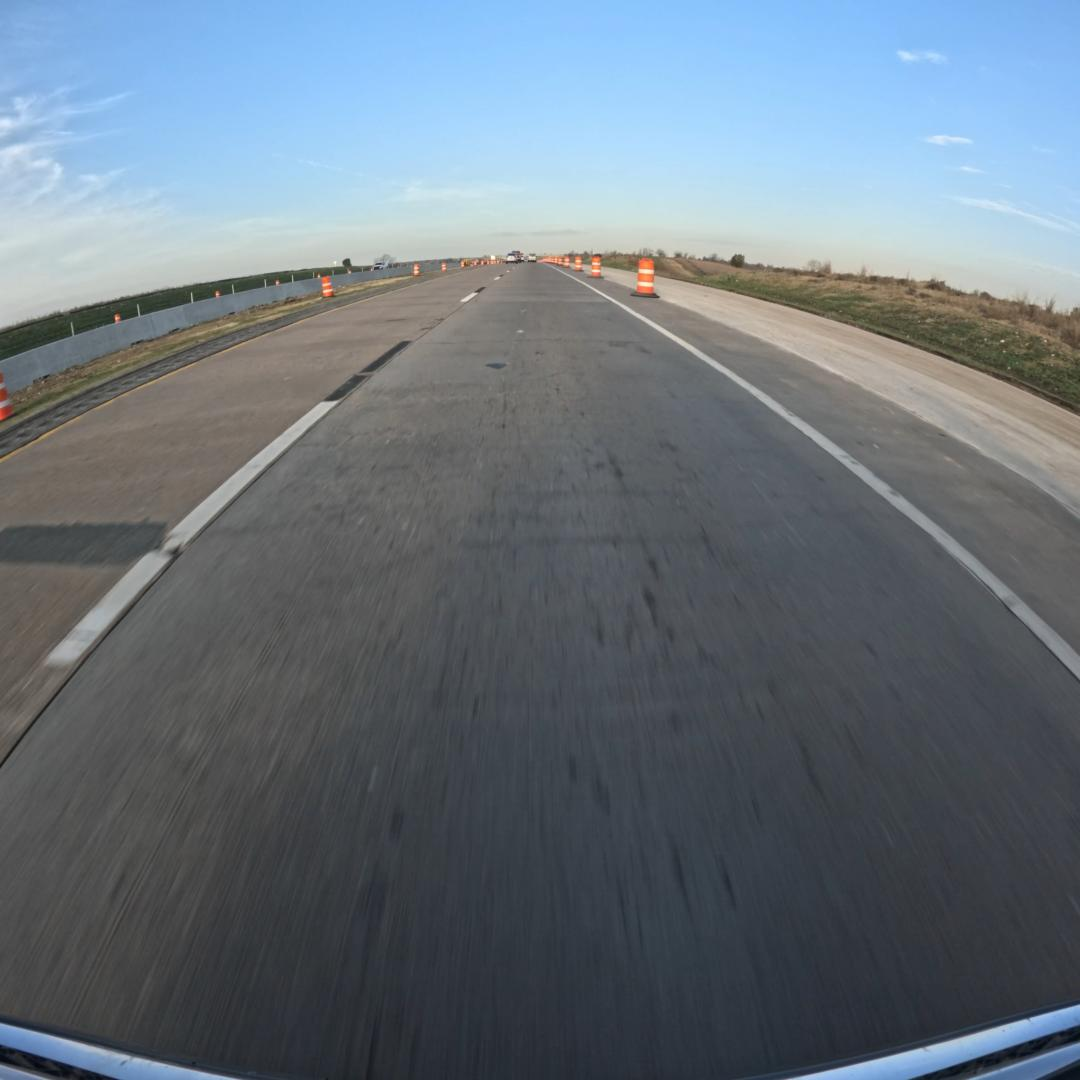lane0: (0, 266, 1080, 1080)
lane1: (0, 266, 512, 760)
